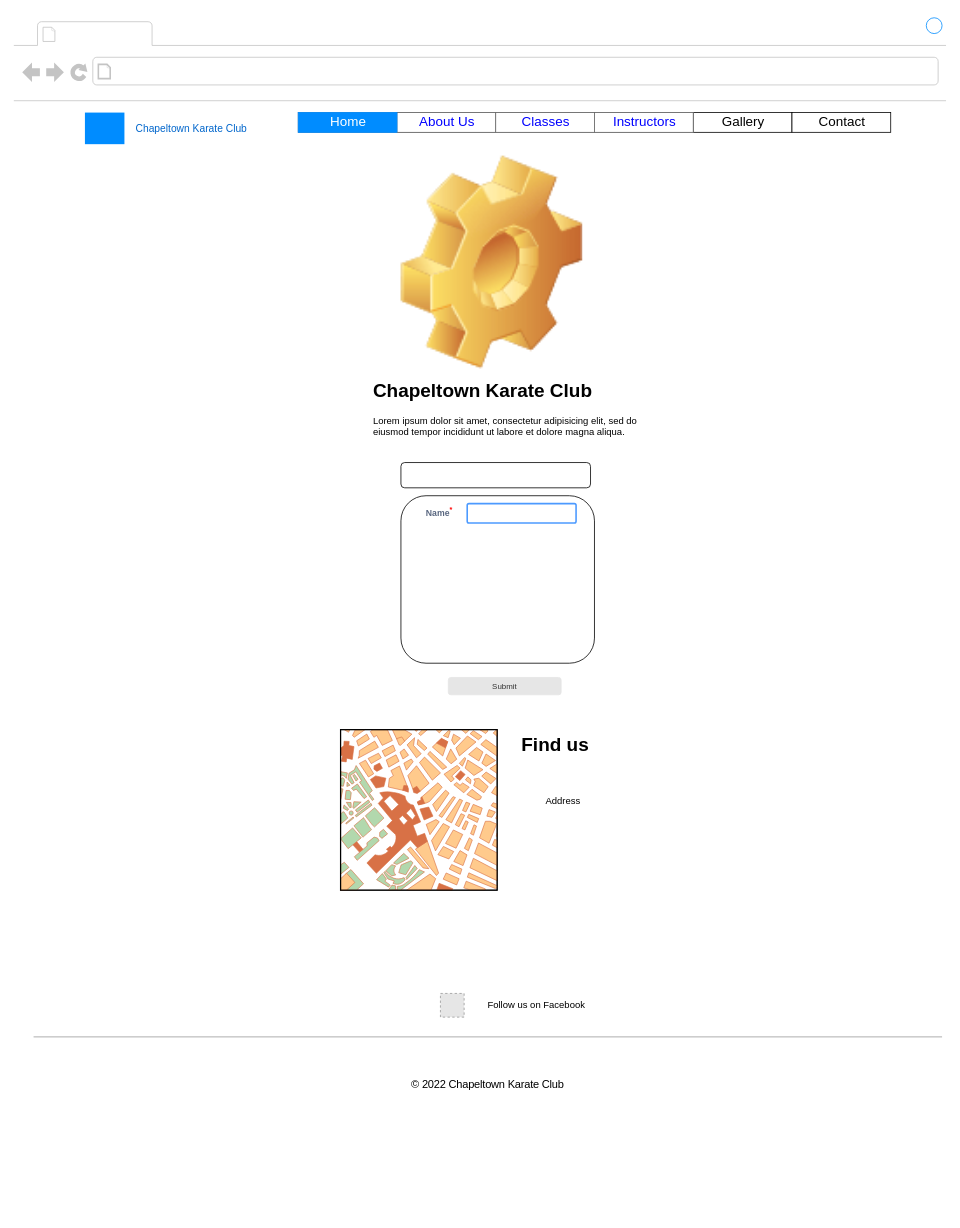
The diagram is 960 pixels wide and 1228 high, and some of its shapes have lost their labels. Grey dashed boxes stand in for pictures. Each missing label, with the box of its shape:
https://www.chapeltownkarateclub.co.uk/: (116, 60, 401, 82)
Messina Cake: (466, 502, 576, 523)
Page 1: (60, 23, 148, 44)
Sign up for a free lesson!: (400, 462, 591, 488)
